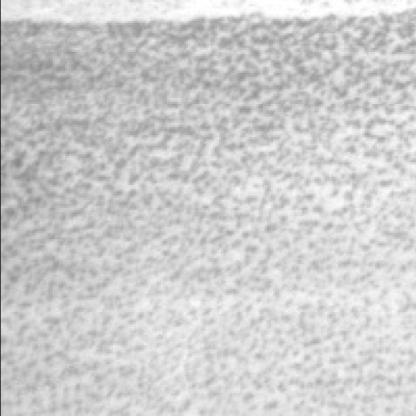pitted_surface: (0, 19, 410, 414)
